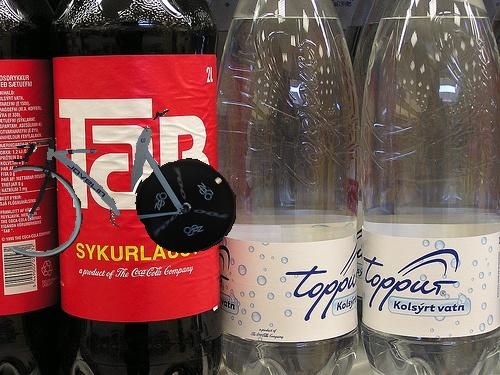tampered: (14, 110, 236, 257)
